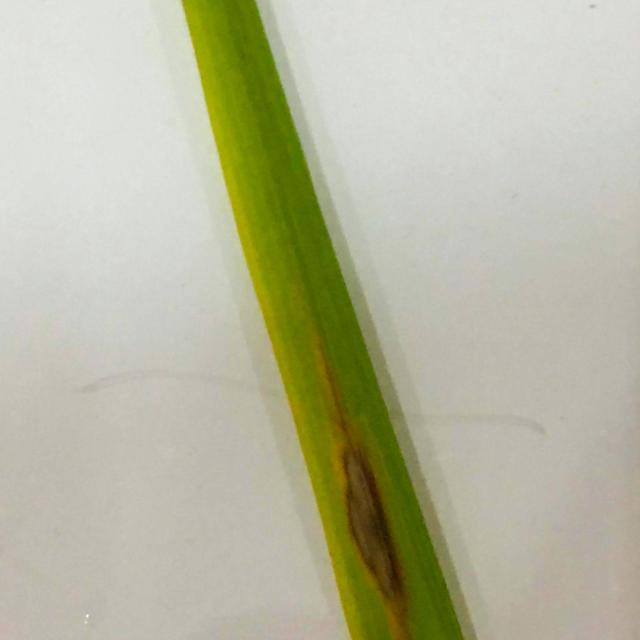Leaf blast: (62, 0, 576, 640)
